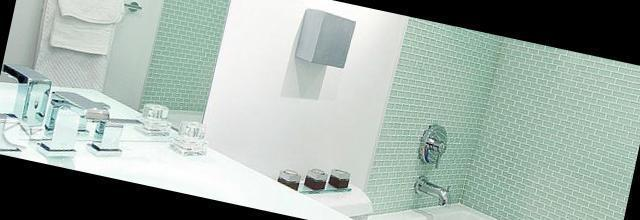Lavamanos: (0, 83, 354, 220)
